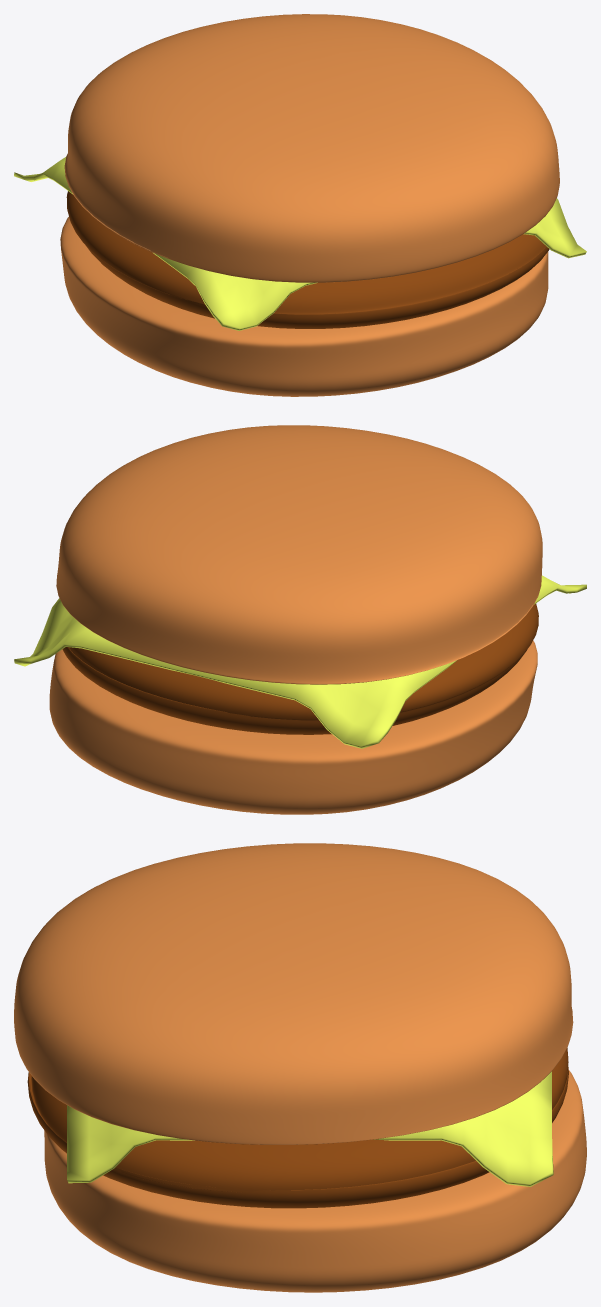
The model's file is hamburger.glb.
3 renders of one model, top to bottom at view 1: azimuth 30°, elevation 25°; view 2: azimuth 150°, elevation 25°; view 3: azimuth 270°, elevation 25°, orthographic. The views are drawn at different scales.
Visible parts, largest first — view 1: Cube.004, Cube.002, Cube.003, Plane; view 2: Cube.004, Cube.002, Cube.003, Plane; view 3: Cube.004, Cube.002, Cube.003, Plane.
Boxes of the visible parts, x1=… form: Cube.004: x1=64, y1=14, x2=559, y2=282; Cube.002: x1=60, y1=217, x2=548, y2=396; Cube.003: x1=66, y1=191, x2=549, y2=328; Plane: x1=14, y1=157, x2=586, y2=330; Cube.004: x1=56, y1=425, x2=542, y2=684; Cube.002: x1=49, y1=640, x2=537, y2=814; Cube.003: x1=62, y1=603, x2=538, y2=734; Plane: x1=14, y1=575, x2=586, y2=748; Cube.004: x1=14, y1=843, x2=573, y2=1144; Cube.002: x1=44, y1=1070, x2=586, y2=1292; Cube.003: x1=27, y1=1048, x2=568, y2=1208; Plane: x1=67, y1=1071, x2=553, y2=1186.
Bounding box in the file's own units: 9.44 × 5.87 × 9.69.
